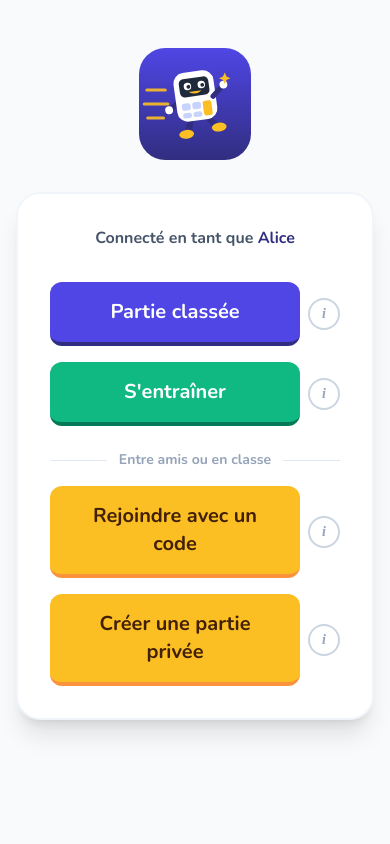
Scenario: HomePage - create lobby button › is enabled and opens the creation form when the player has an active subscription
This screenshot has width=390, height=844.
Click the button "Créer une partie privée". click: (175, 640)
box: 50,594 -> 300,686
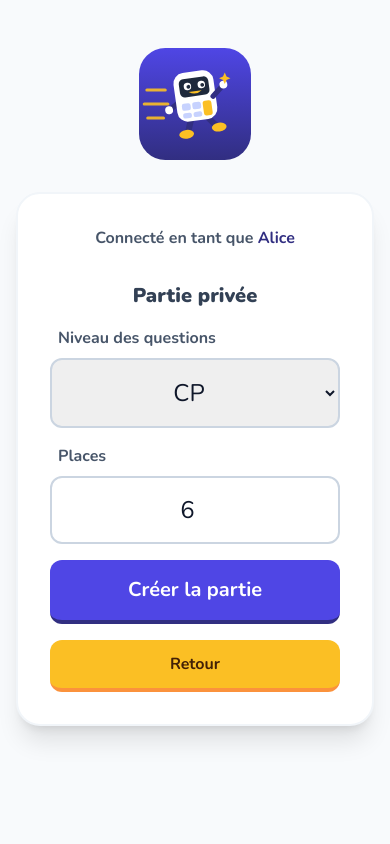
expect the text "Places" is shown: met, box 58,445 -> 106,467
